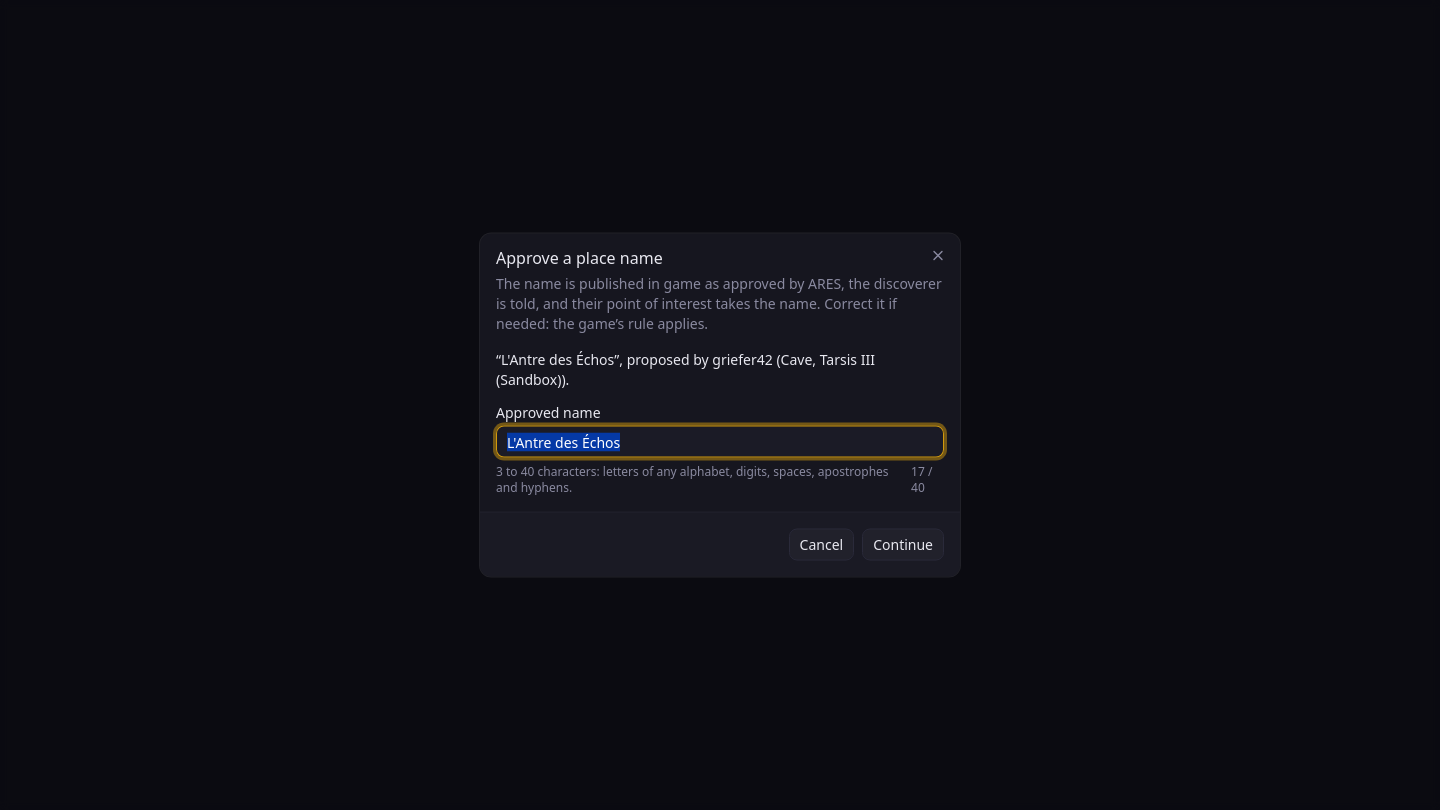
Test: PlaceNameDecisionDialog (ADR 0032) › says what is wrong with a name breaking the game's rule
Clear the field labelled "Approved name": (720, 442) [496,426,944,458]
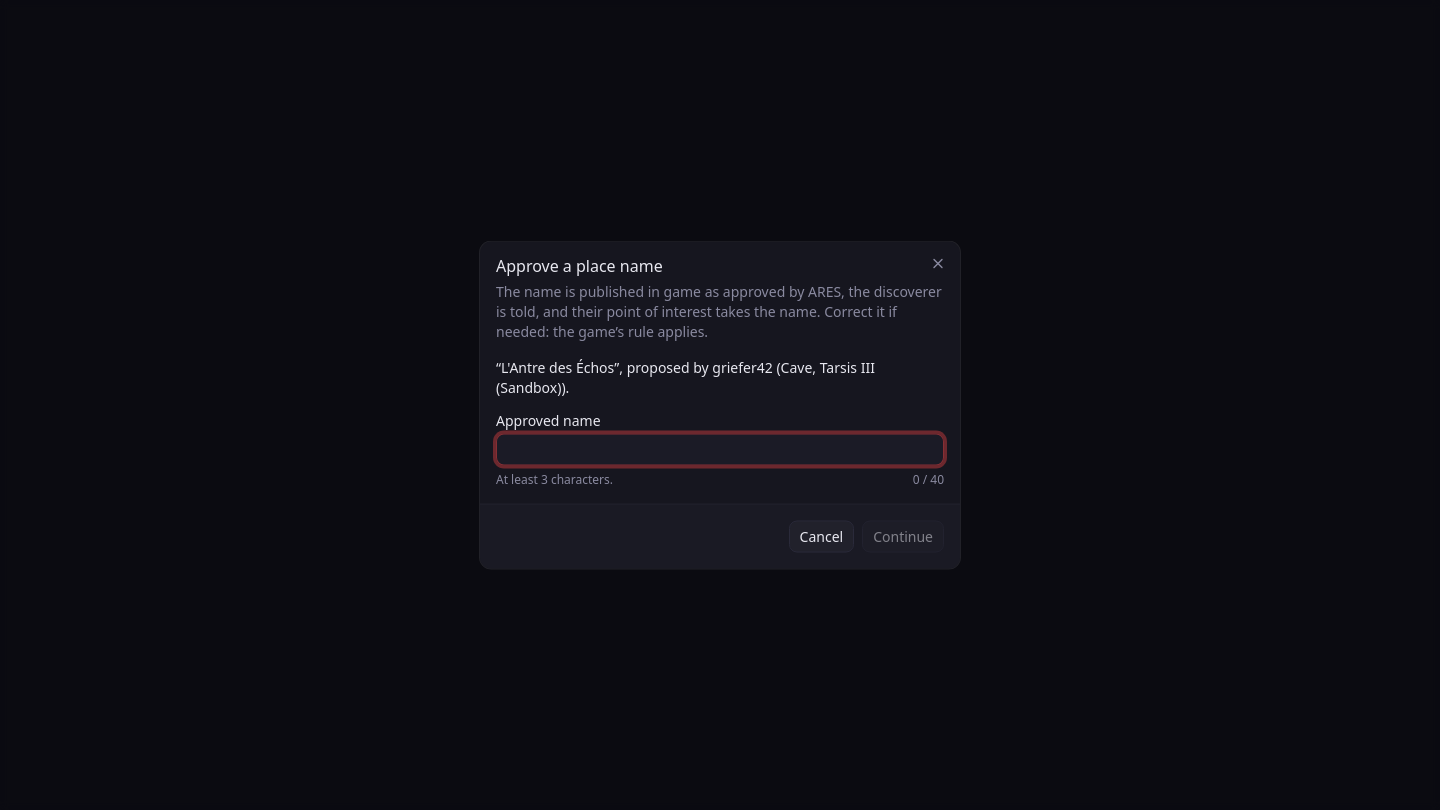
In the field labelled "Approved name": (720, 450) [496,434,944,466], type "Cave #1"
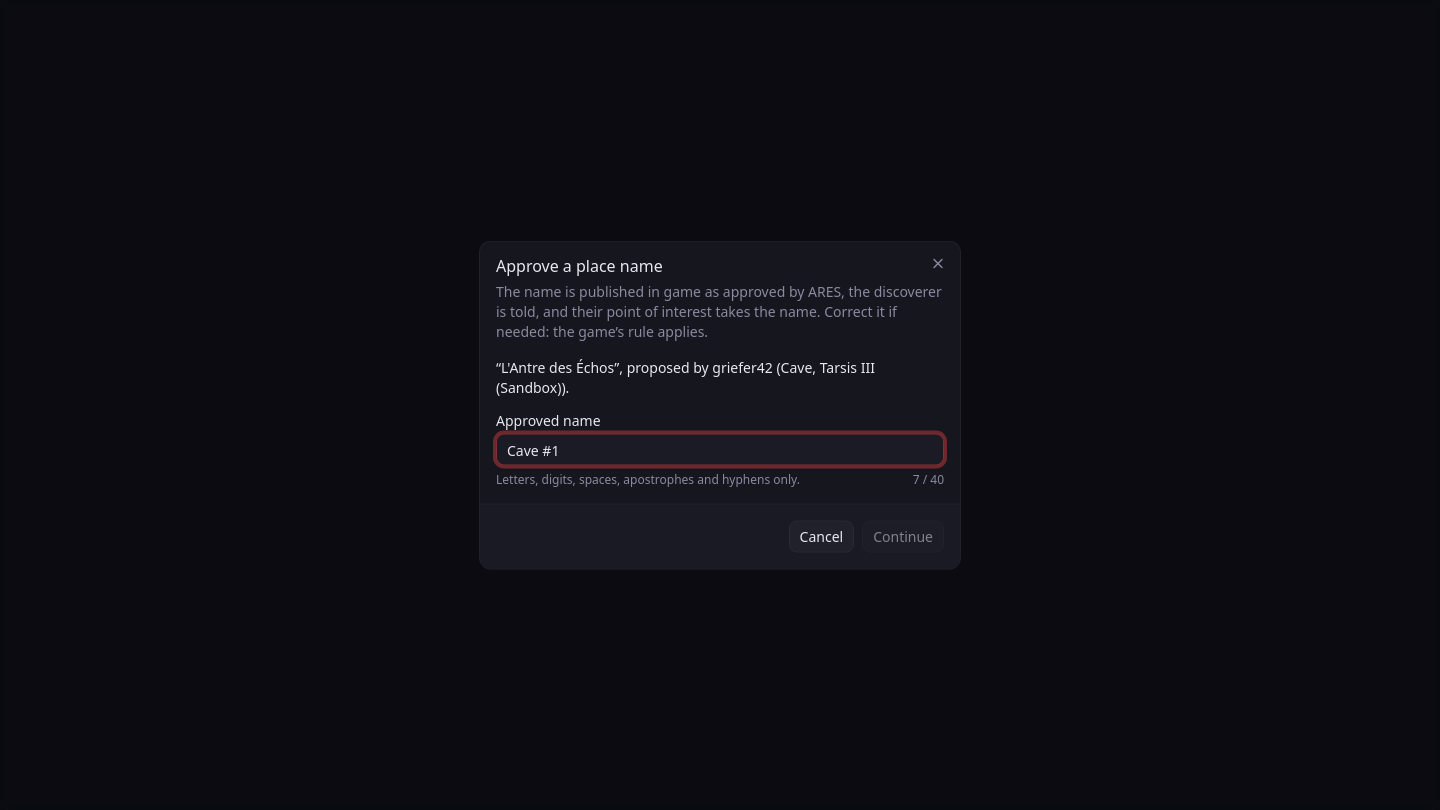
Expected: the button "Continue" is disabled, [862,520,944,552]
Expected: the text "Letters, digits, spaces, apostrophes and hyphens only." is shown, [496,472,800,488]
